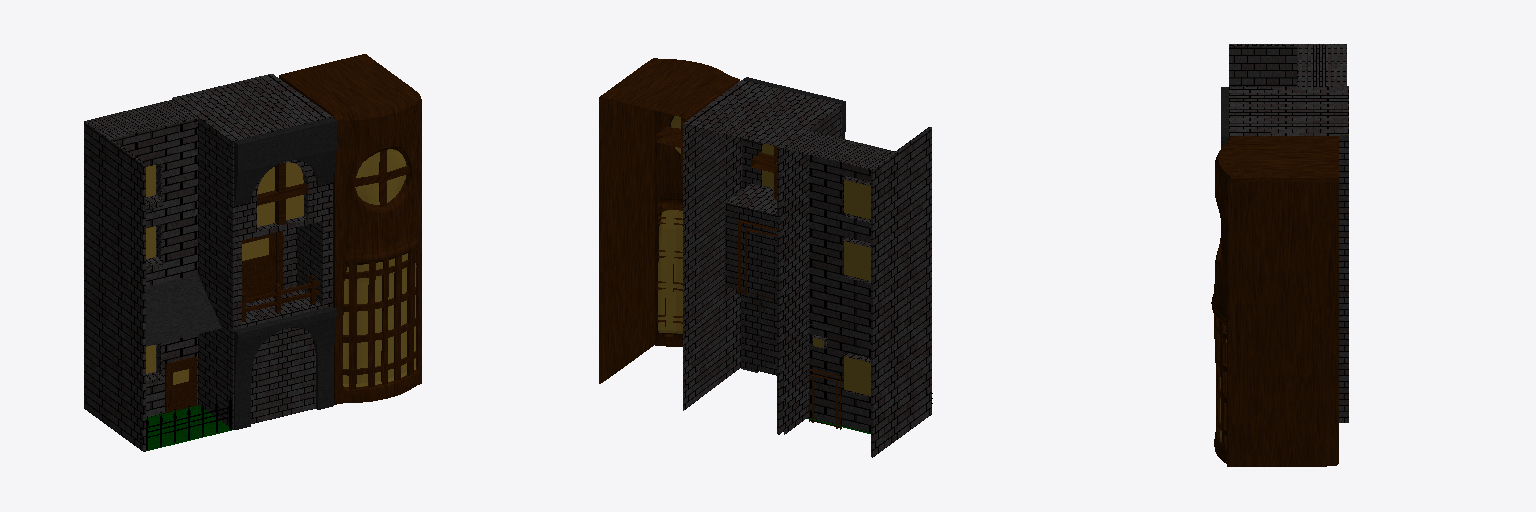
The picture shows the model from 3 angles: view 1: azimuth 30°, elevation 25°; view 2: azimuth 150°, elevation 25°; view 3: azimuth 270°, elevation 25°; orthographic projection.
Visible parts, largest first — view 1: sub5.004, sub3.003, part2_.002, door_bake.018, door_bake.017; view 2: sub3.003, sub5.004, part2_.002, door_bake.018; view 3: part2_.002, sub5.004, sub3.003.
Boxes of the visible parts, x1=… form: sub5.004: x1=172, y1=74, x2=336, y2=429; sub3.003: x1=84, y1=100, x2=232, y2=451; part2_.002: x1=279, y1=54, x2=421, y2=404; door_bake.018: x1=242, y1=231, x2=282, y2=298; door_bake.017: x1=165, y1=356, x2=196, y2=412; sub3.003: x1=777, y1=127, x2=932, y2=457; sub5.004: x1=683, y1=77, x2=845, y2=434; part2_.002: x1=599, y1=58, x2=739, y2=383; door_bake.018: x1=738, y1=220, x2=776, y2=299; part2_.002: x1=1211, y1=136, x2=1338, y2=466; sub5.004: x1=1221, y1=86, x2=1348, y2=422; sub3.003: x1=1229, y1=44, x2=1346, y2=86.
Size of the model in its own units: 16.19 by 16.23 by 6.88.
Materials: 4 (4 with a texture image).